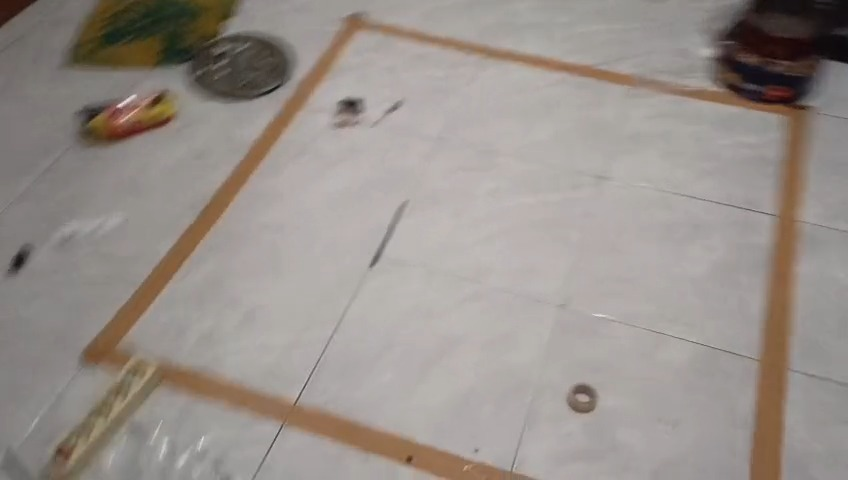floor marking: (83, 14, 810, 479), (162, 363, 532, 479)
